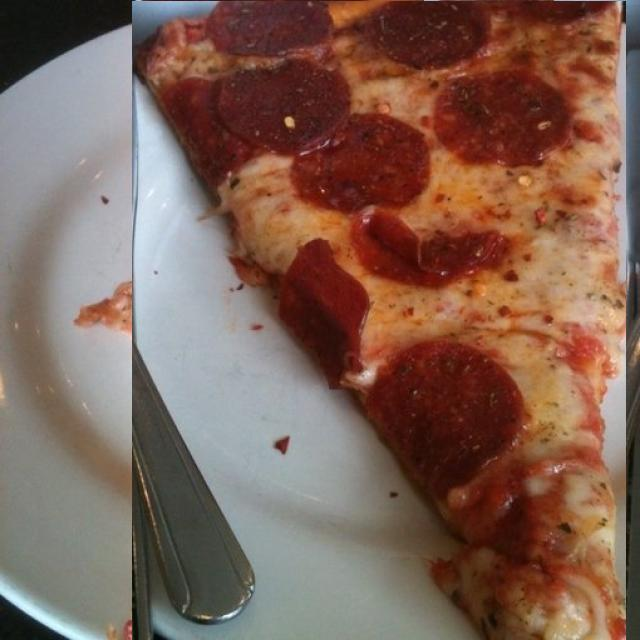pepperoni: (407, 56, 593, 192), (237, 337, 394, 495), (387, 239, 484, 392), (330, 112, 472, 216), (184, 73, 324, 169), (248, 212, 411, 288), (266, 3, 395, 70), (424, 0, 554, 58)
pizza: (132, 1, 626, 640)
